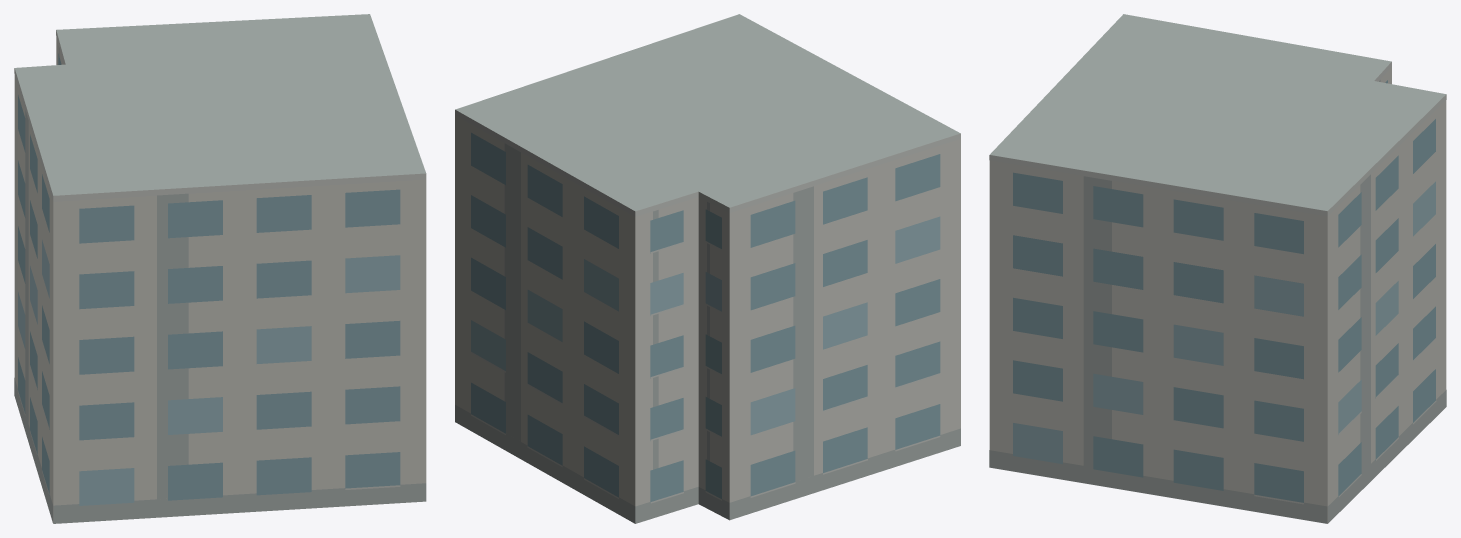
File: survey-upis-32808070.glb
3 views of the same model, side by side, from view 1: azimuth 30°, elevation 25°; view 2: azimuth 150°, elevation 25°; view 3: azimuth 270°, elevation 25° (orthographic). The views are drawn at different scales.
Visible parts, largest first — view 1: survey-upis-32808070.tmp; view 2: survey-upis-32808070.tmp; view 3: survey-upis-32808070.tmp.
Part boxes in pixels (x1,y1,x2,y2): survey-upis-32808070.tmp: [14, 14, 426, 523]; survey-upis-32808070.tmp: [455, 14, 960, 523]; survey-upis-32808070.tmp: [989, 14, 1446, 523].
Size of the model in its own units: 18.4 by 13.6 by 18.02.
